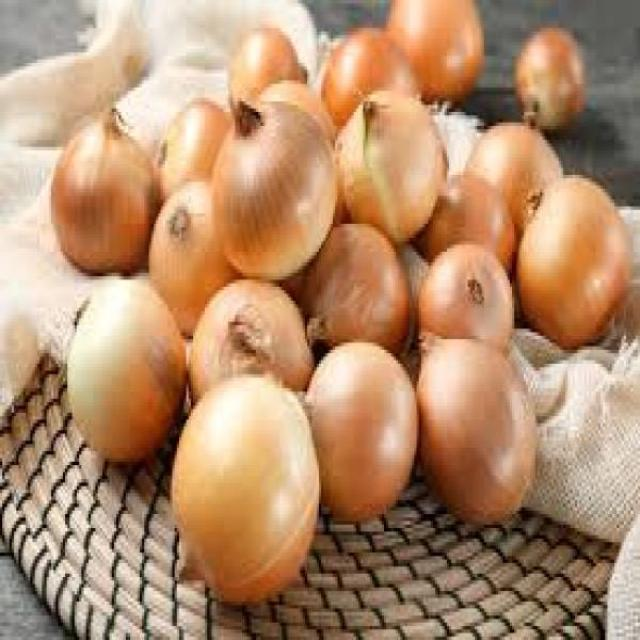Onion: (185, 381, 322, 587), (57, 276, 190, 470), (411, 331, 546, 517), (510, 171, 638, 343), (208, 103, 336, 274), (306, 345, 414, 511), (330, 88, 454, 230), (44, 107, 152, 270), (192, 273, 302, 390), (421, 251, 540, 342)
